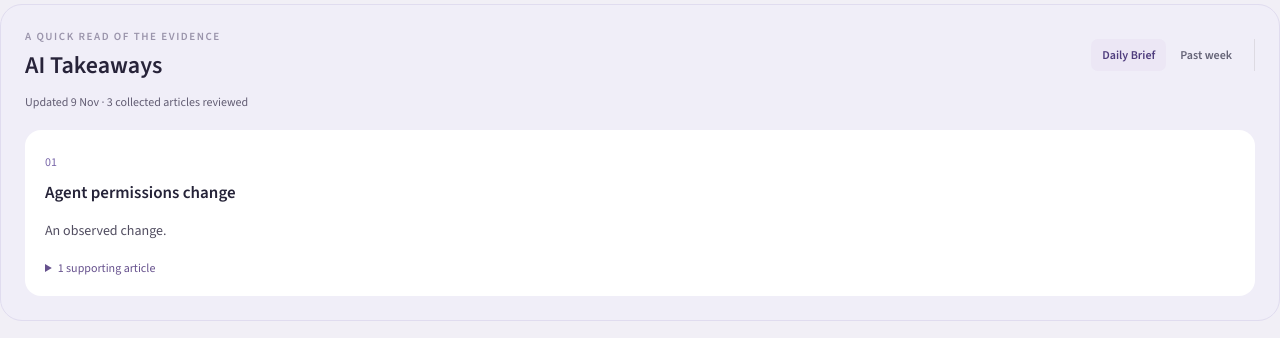
Scenario: switches briefing periods and keeps evidence with concise metadata
The width and height of the screenshot is (1280, 338).
Expected: the heading "Agent permissions change" is shown, [45,181,236,204]
Expected: the text "Updated 9 Nov · 3 collected articles reviewed" is shown, [25,94,248,110]
Click the button "Past week" at (1206, 55), box [1169,39,1243,71]
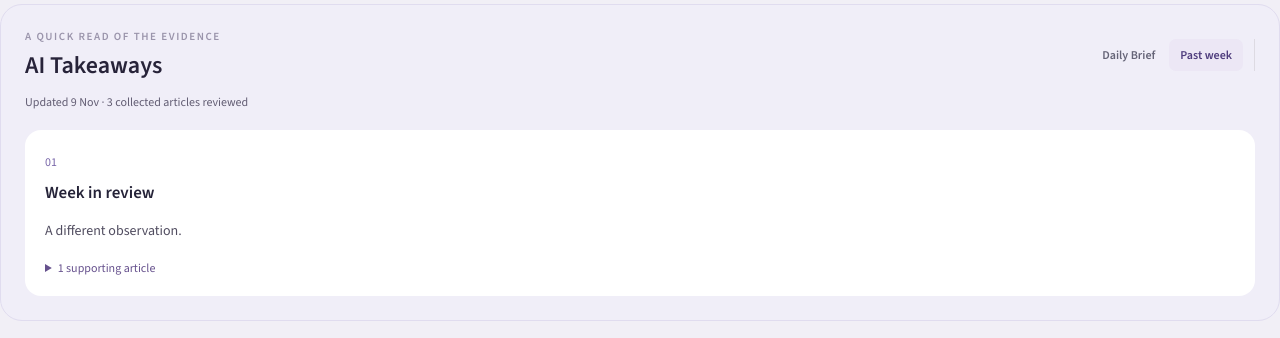
Result: the heading "Week in review" is shown at [45,181,154,204]
Result: the heading "Agent permissions change" is gone
